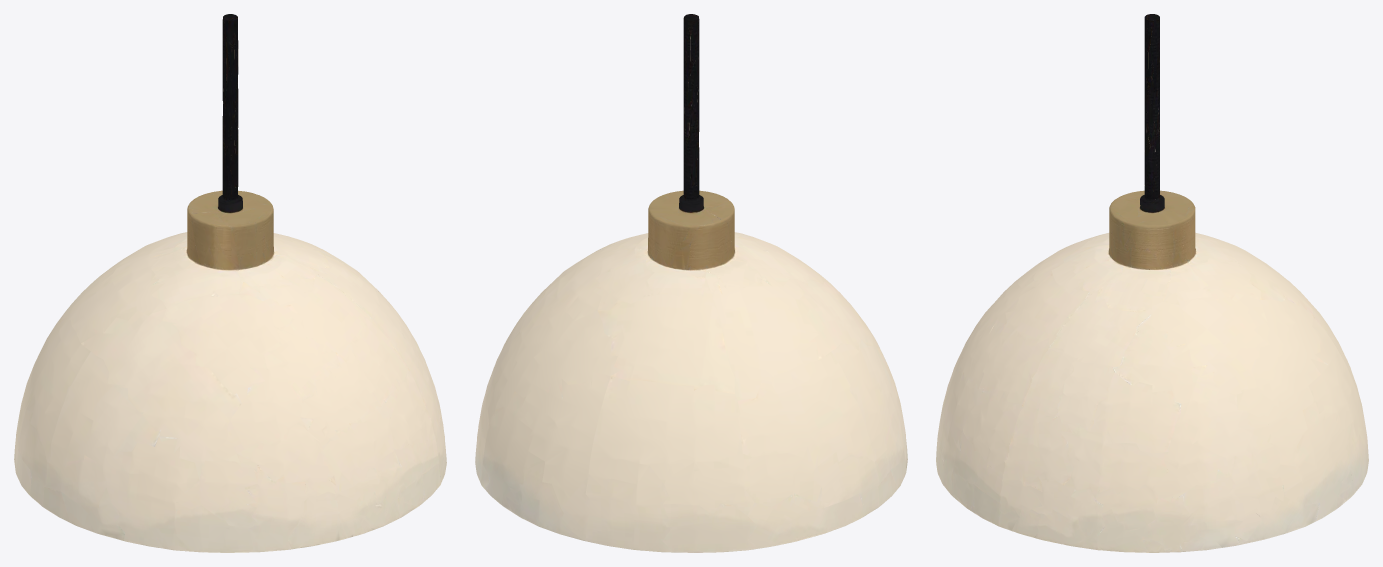
Rendered from lamp.glb.
3 renders of one model, left to right at view 1: azimuth 30°, elevation 25°; view 2: azimuth 150°, elevation 25°; view 3: azimuth 270°, elevation 25°, orthographic.
Visible parts, largest first — view 1: Mesh_0; view 2: Mesh_0; view 3: Mesh_0.
Part boxes in pixels (x1,y1,x2,y2): Mesh_0: [14, 14, 446, 552]; Mesh_0: [475, 14, 907, 552]; Mesh_0: [936, 14, 1368, 552].
Bounding box in the file's own units: 1.68 × 1.9 × 1.68.
1 material, 1 textured.
